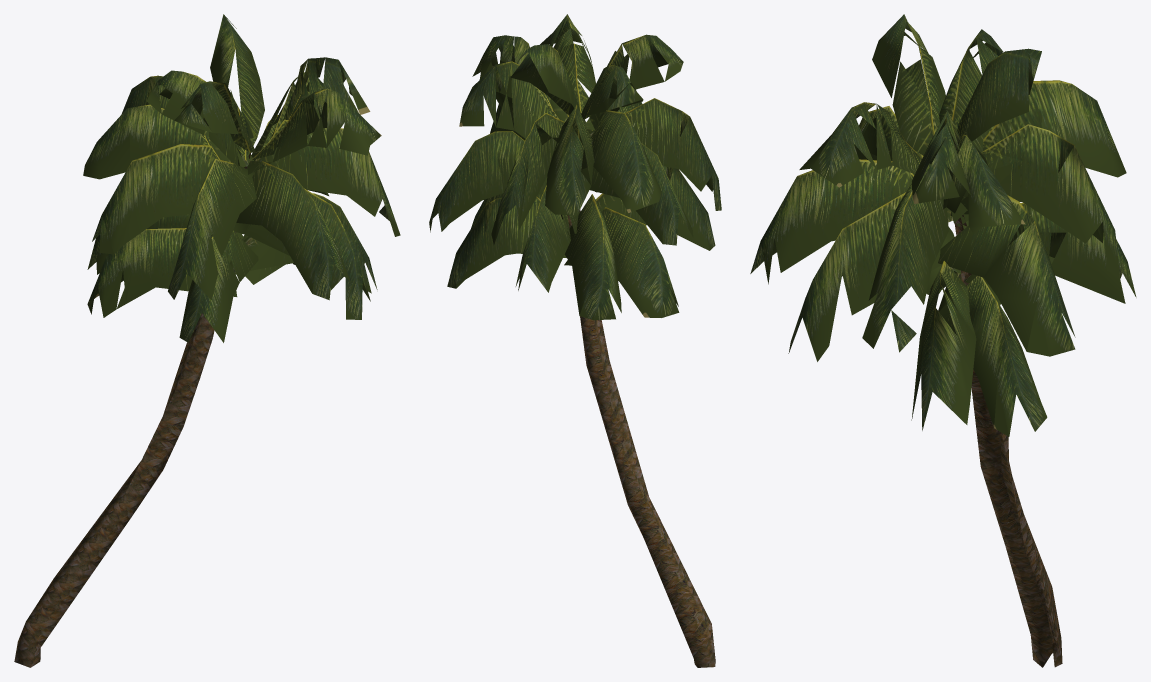
File: TreeOptimized.FBX
3 renders of one model, left to right at view 1: azimuth 30°, elevation 25°; view 2: azimuth 150°, elevation 25°; view 3: azimuth 270°, elevation 25°, orthographic. The views are drawn at different scales.
Visible parts, largest first — view 1: COCO_03, COCO_01; view 2: COCO_03, COCO_01; view 3: COCO_03, COCO_01.
Boxes of the visible parts, x1,y1,x2,y2 form: COCO_03: (83,14,400,342); COCO_01: (14,153,250,667); COCO_03: (429,14,721,320); COCO_01: (567,209,715,667); COCO_03: (750,14,1136,436); COCO_01: (954,215,1062,667).
Bounding box in the file's own units: 40.85 × 35.9 × 74.29.
2 materials, 2 textured.
